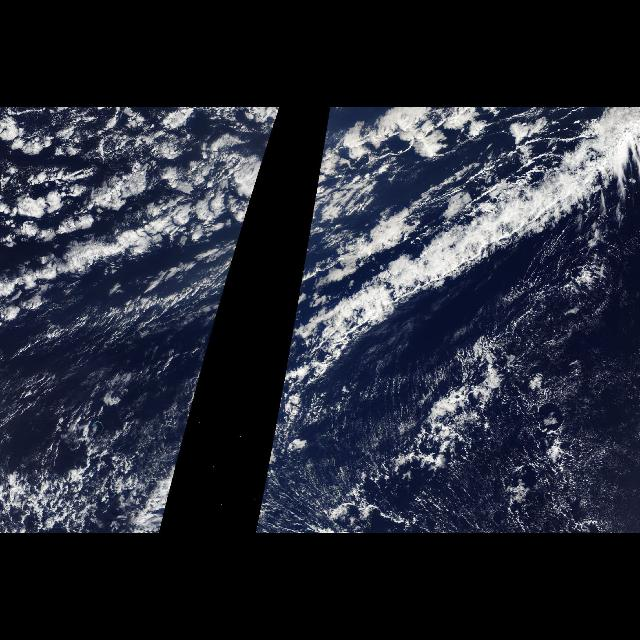Fish: (298, 109, 640, 341), (22, 160, 264, 292)
Gravel: (415, 336, 579, 522)
Sugar: (501, 332, 631, 532), (293, 396, 403, 496)
